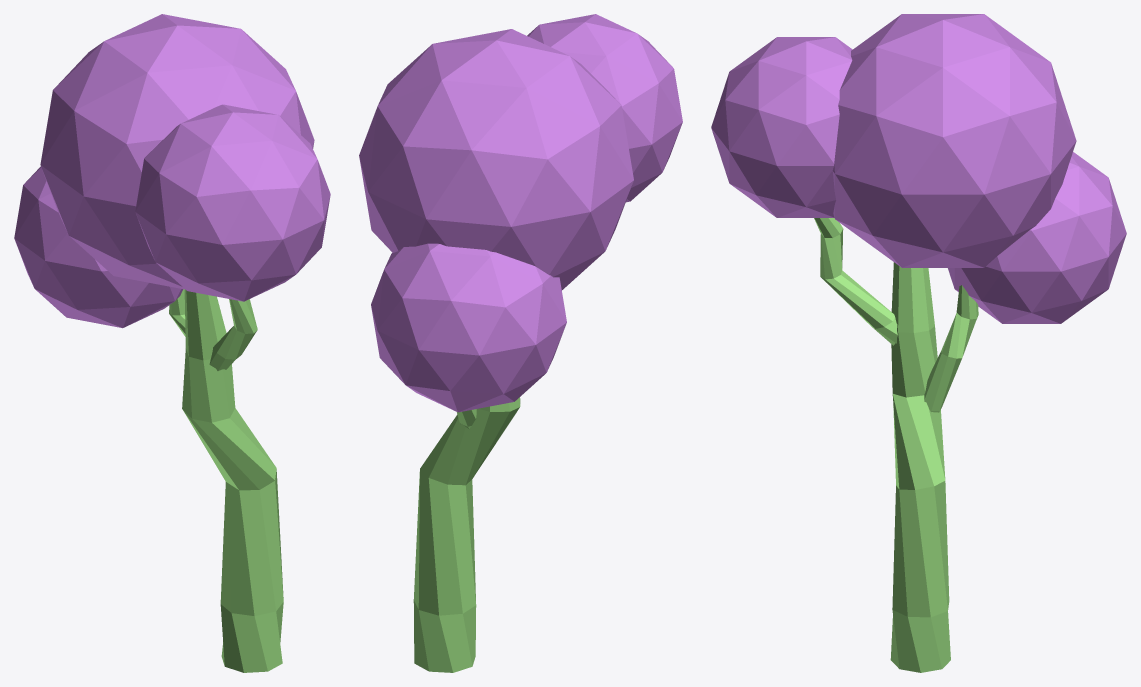
The model's file is OddTree1.fbx.
3 views of the same model, side by side, from view 1: azimuth 30°, elevation 25°; view 2: azimuth 150°, elevation 25°; view 3: azimuth 270°, elevation 25° (orthographic). The views are drawn at different scales.
Visible parts, largest first — view 1: Icosphere; view 2: Icosphere; view 3: Icosphere.
Boxes of the visible parts, x1,y1,x2,y2 form: Icosphere: (14, 14, 330, 672); Icosphere: (359, 14, 682, 672); Icosphere: (711, 14, 1126, 672).
Bounding box in the file's own units: 267 × 708 × 437.
